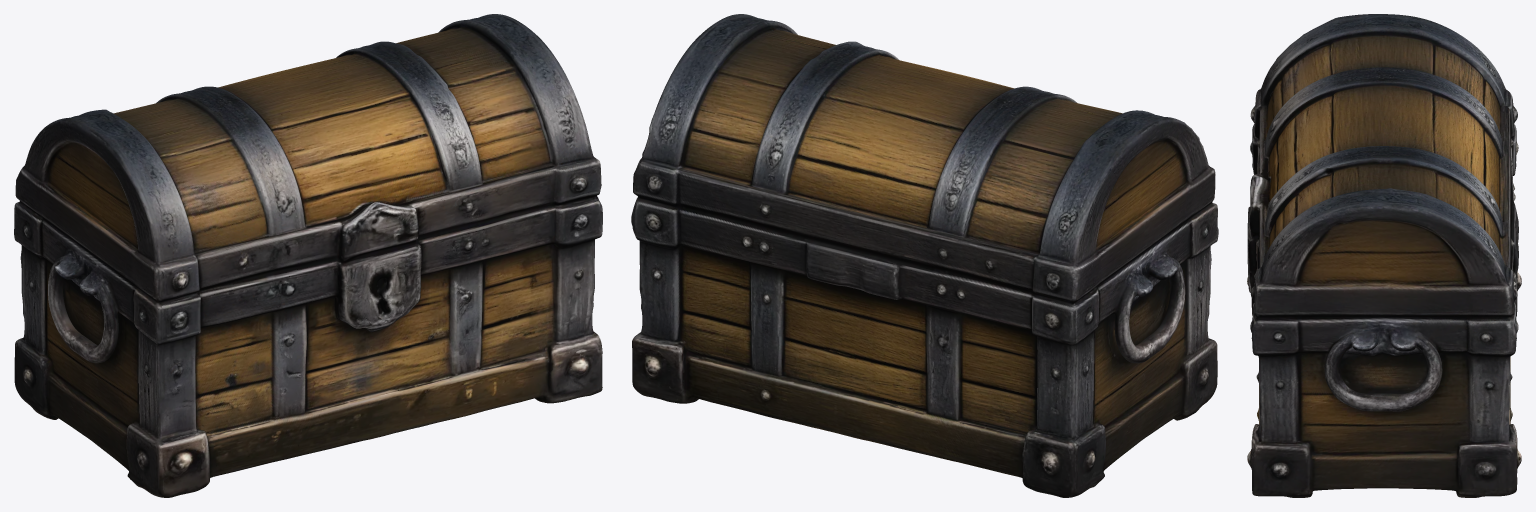
File: chest.glb
The picture shows the model from 3 angles, left to right: view 1: azimuth 30°, elevation 25°; view 2: azimuth 150°, elevation 25°; view 3: azimuth 270°, elevation 25°; orthographic projection. The views are drawn at different scales.
Parts seen in each view (by area): view 1: material; view 2: material; view 3: material.
Boxes of the visible parts, <box> form: material: <box>14,14,602,497</box>; material: <box>631,14,1218,497</box>; material: <box>1247,14,1521,497</box>.
Size of the model in its own units: 0.9669 by 0.6315 by 0.5314.
1 material, 1 textured.
